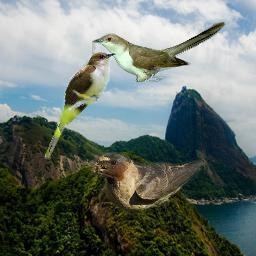Cuckoo: (92, 21, 225, 82), (44, 51, 117, 159)
Swallow: (91, 152, 206, 214)
